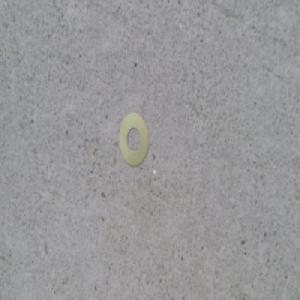Washer: (118, 110, 149, 169)
